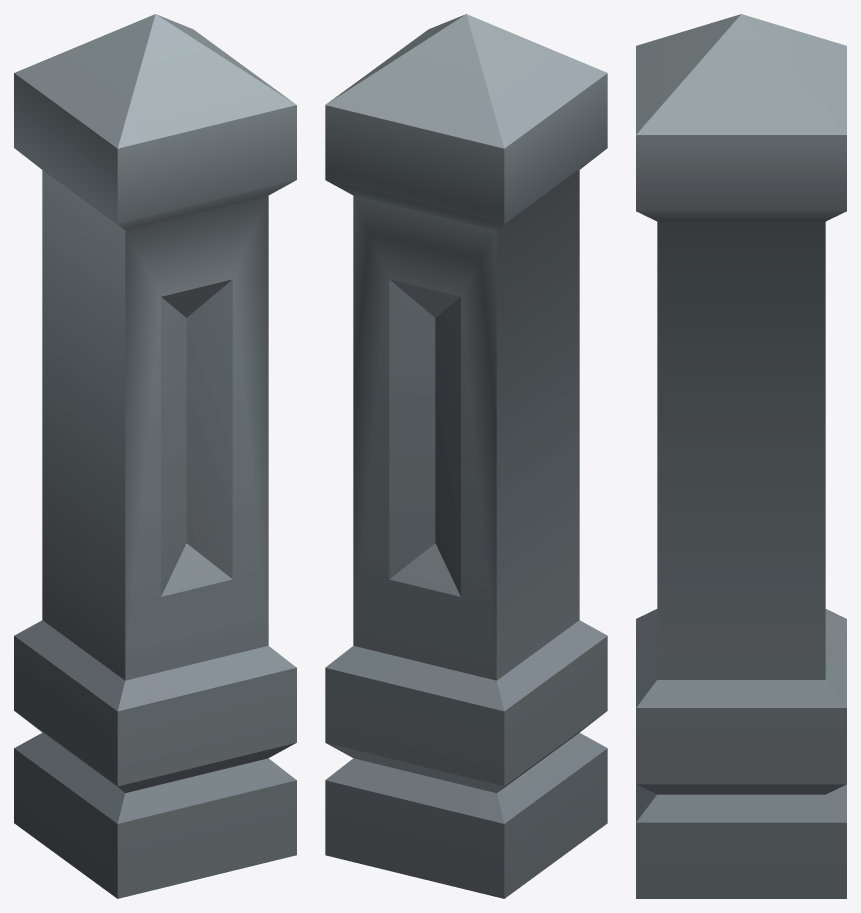
The model's file is pillar.glb.
3 views of the same model, side by side, from view 1: azimuth 30°, elevation 25°; view 2: azimuth 150°, elevation 25°; view 3: azimuth 270°, elevation 25° (orthographic).
Parts seen in each view (by area): view 1: pillar; view 2: pillar; view 3: pillar.
Boxes of the visible parts, x1,y1,x2,y2 form: pillar: (14, 14, 296, 898); pillar: (325, 14, 607, 898); pillar: (636, 14, 846, 898).
Size of the model in its own units: 0.9999 by 4.4 by 0.9999.
Materials: 1 (1 with a texture image).
